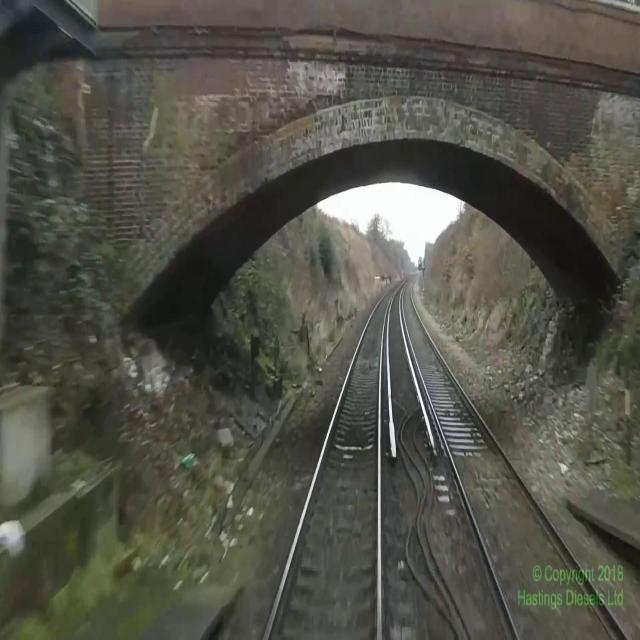rail-track: (403, 280, 625, 639), (266, 280, 403, 639)
